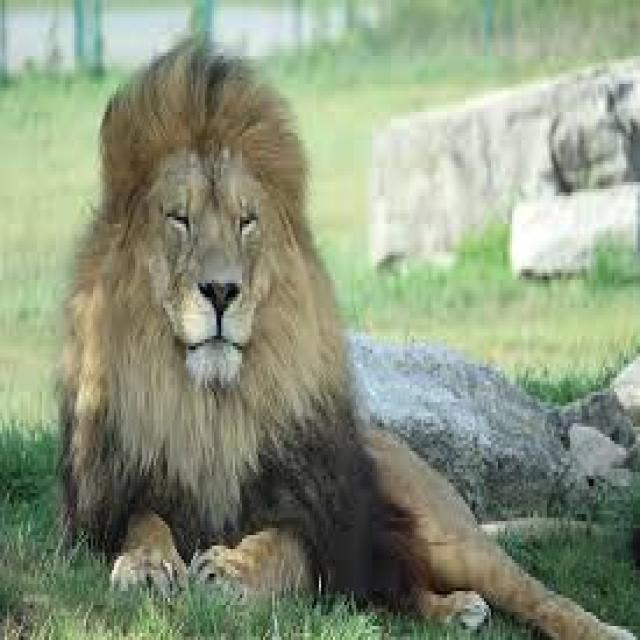Lion: (62, 47, 628, 637)
